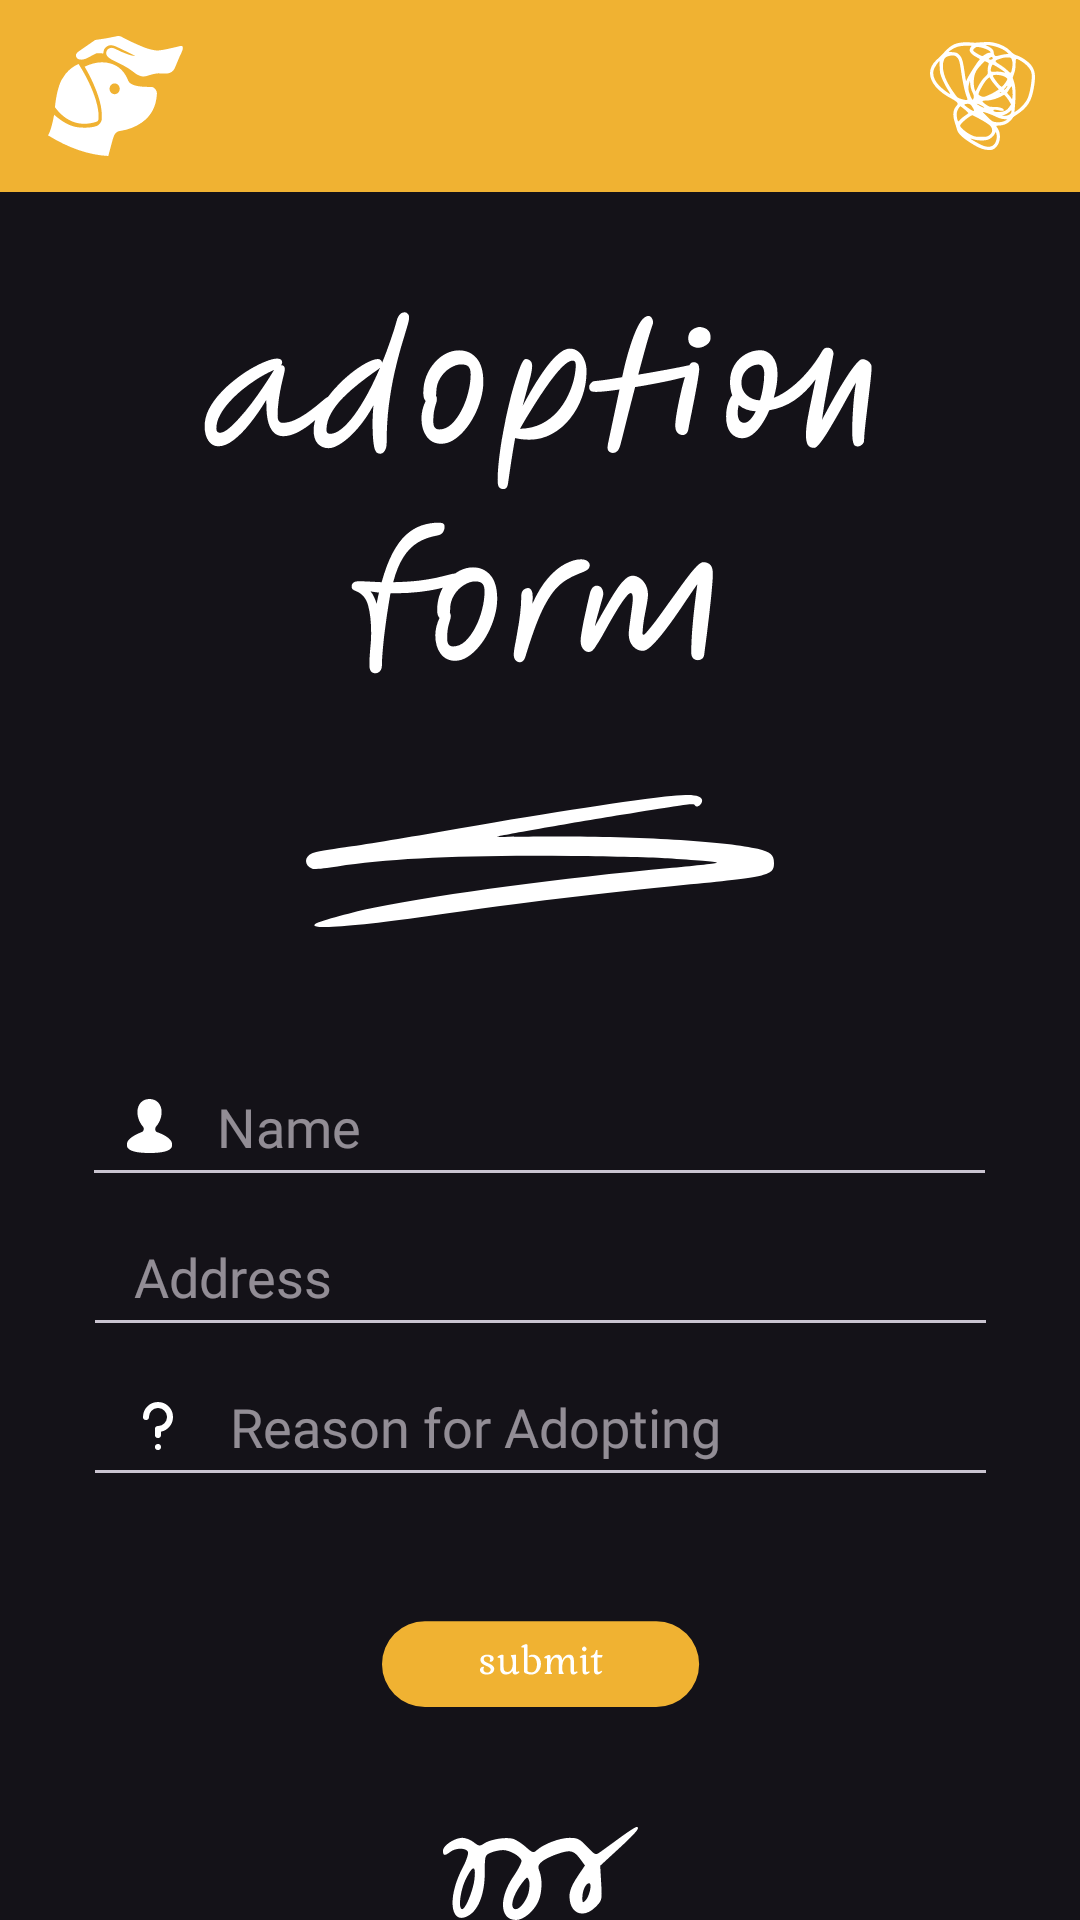

Point at icon controls on the screen. Image size 1080*1920, points as [x,y].
scribble med: [982,96]
